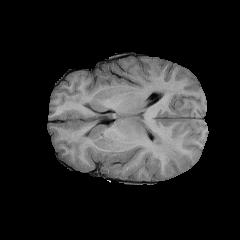glioma: (142, 78, 193, 170)
